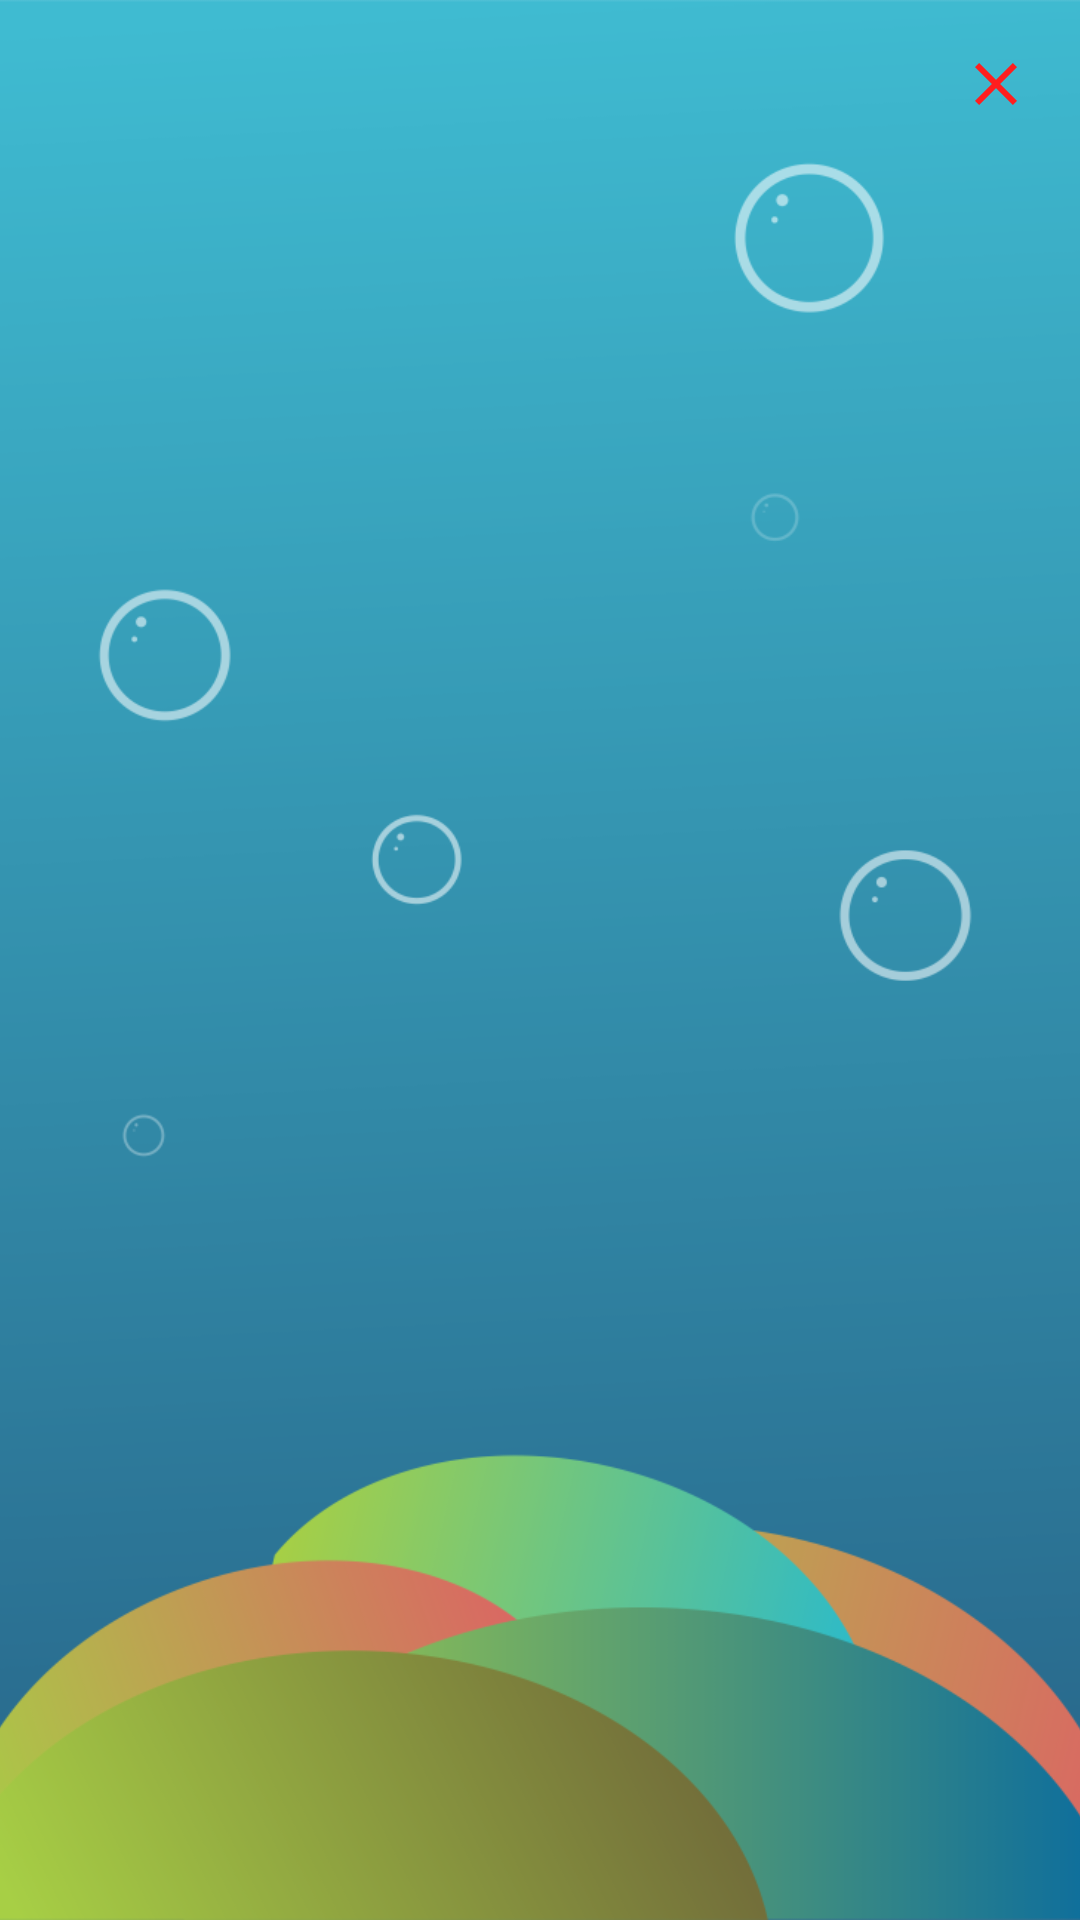

Locate icon controls on the screen. Image size 1080w x 1920h, boxes as (x1, y1, x2, y2).
close: (975, 63, 1017, 105)
